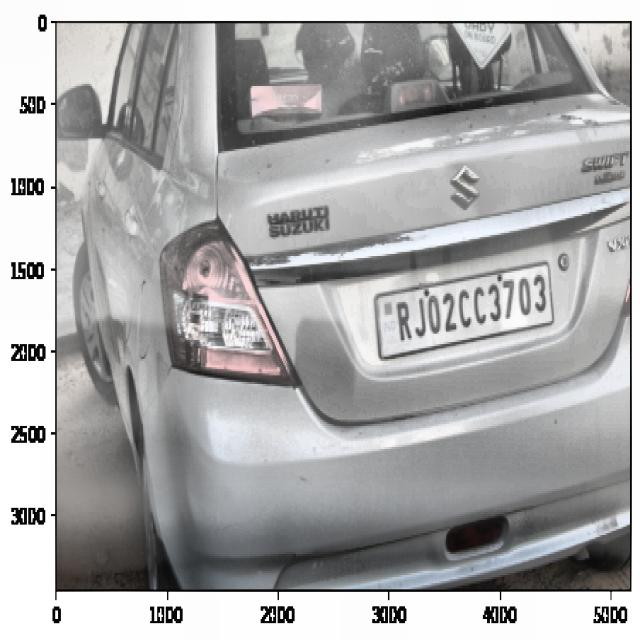license_plate: (389, 270, 551, 344)
